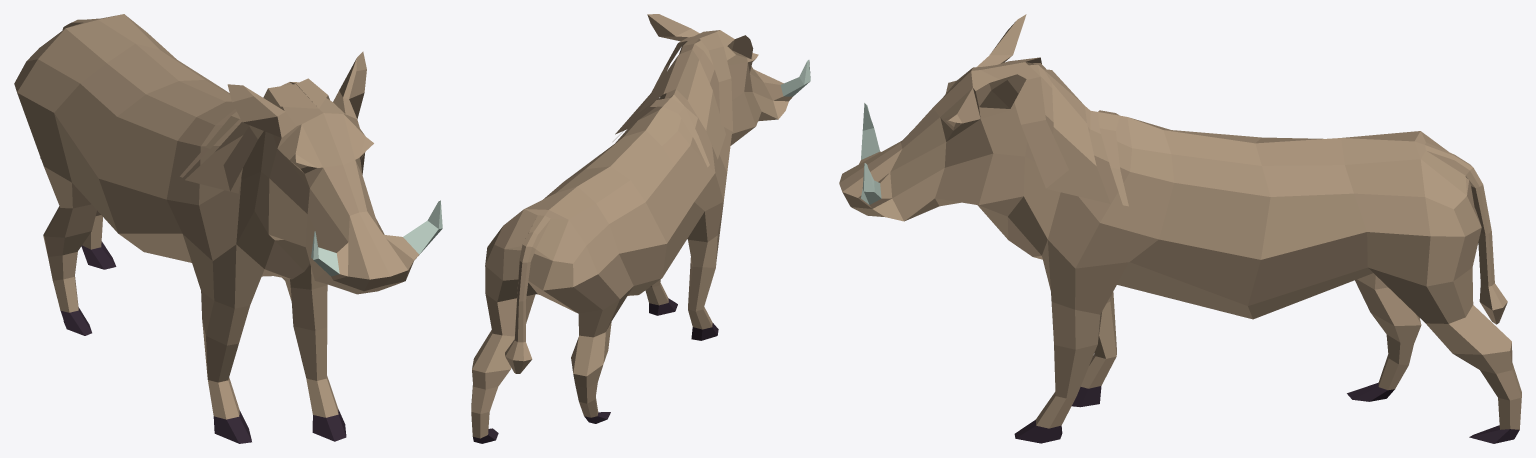
The model's file is Wildschwein2.fbx.
The picture shows the model from 3 angles, left to right: view 1: azimuth 30°, elevation 25°; view 2: azimuth 150°, elevation 25°; view 3: azimuth 270°, elevation 25°; orthographic projection. The views are drawn at different scales.
Visible parts, largest first — view 1: Wildschwein; view 2: Wildschwein; view 3: Wildschwein.
Part boxes in pixels (x1=…): Wildschwein: x1=14, y1=14, x2=442, y2=443; Wildschwein: x1=471, y1=14, x2=810, y2=443; Wildschwein: x1=839, y1=14, x2=1521, y2=443.
Bounding box in the file's own units: 0.5842 × 1.36 × 2.27.
